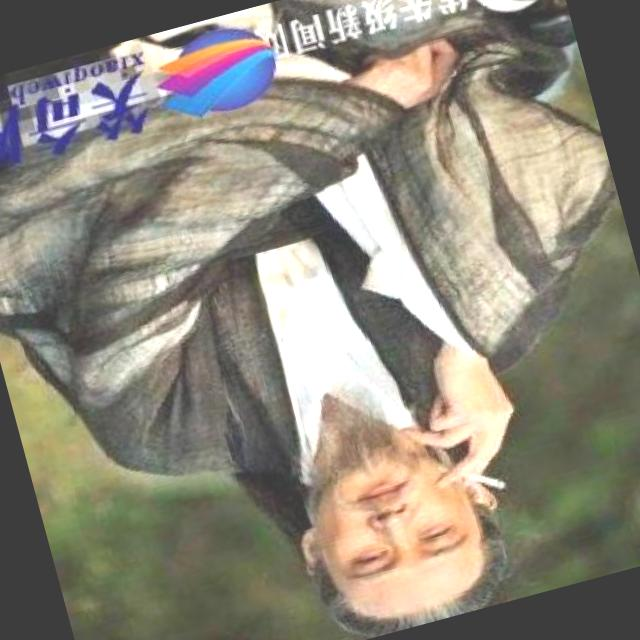cigarette: (441, 452, 509, 505)
